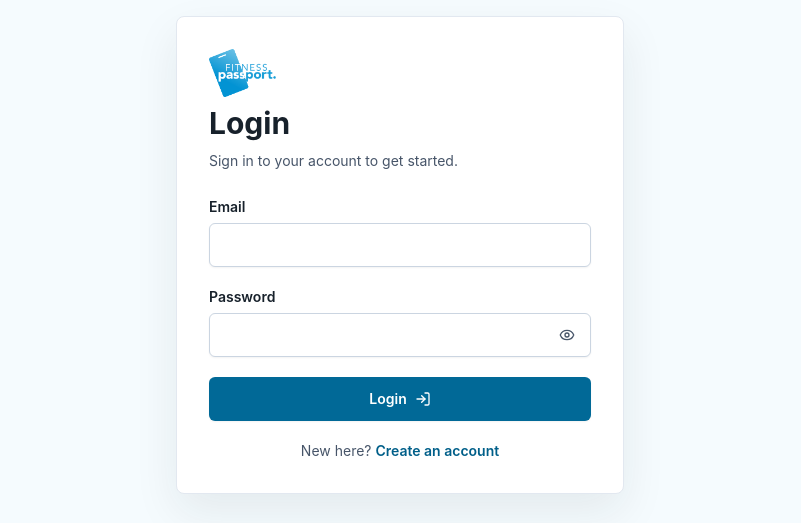
auth flow › logs in successfully and stores the auth token
Type "sam@example.com" into the field labelled "Email" at (400, 245), box left=209, top=223, right=591, bottom=267
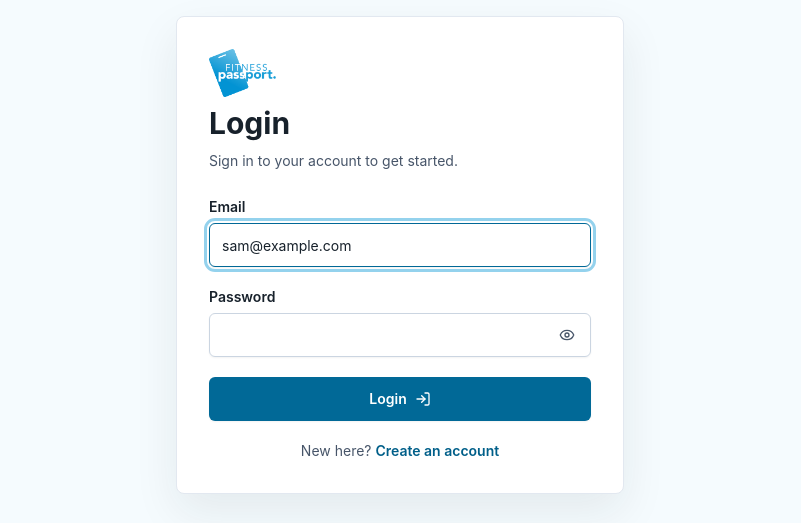
Type "Strong123" into the password field labelled "Password" at (400, 335), box left=209, top=313, right=591, bottom=357
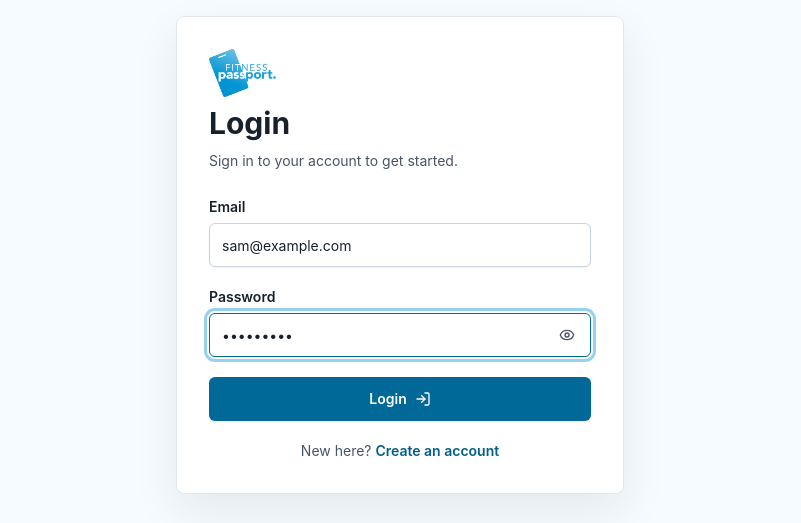
Click the button "Login" at (400, 399), box left=209, top=377, right=591, bottom=421
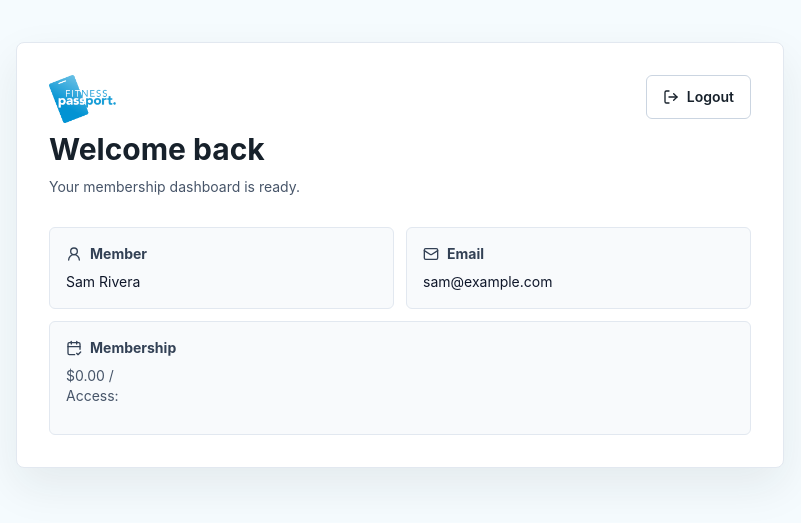
Expected: the heading "Welcome back" is shown, left=49, top=131, right=300, bottom=167
